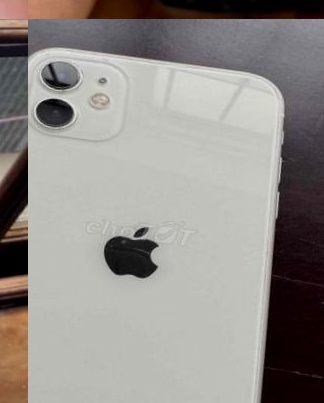scratch: (58, 42, 273, 83), (29, 50, 86, 98)
